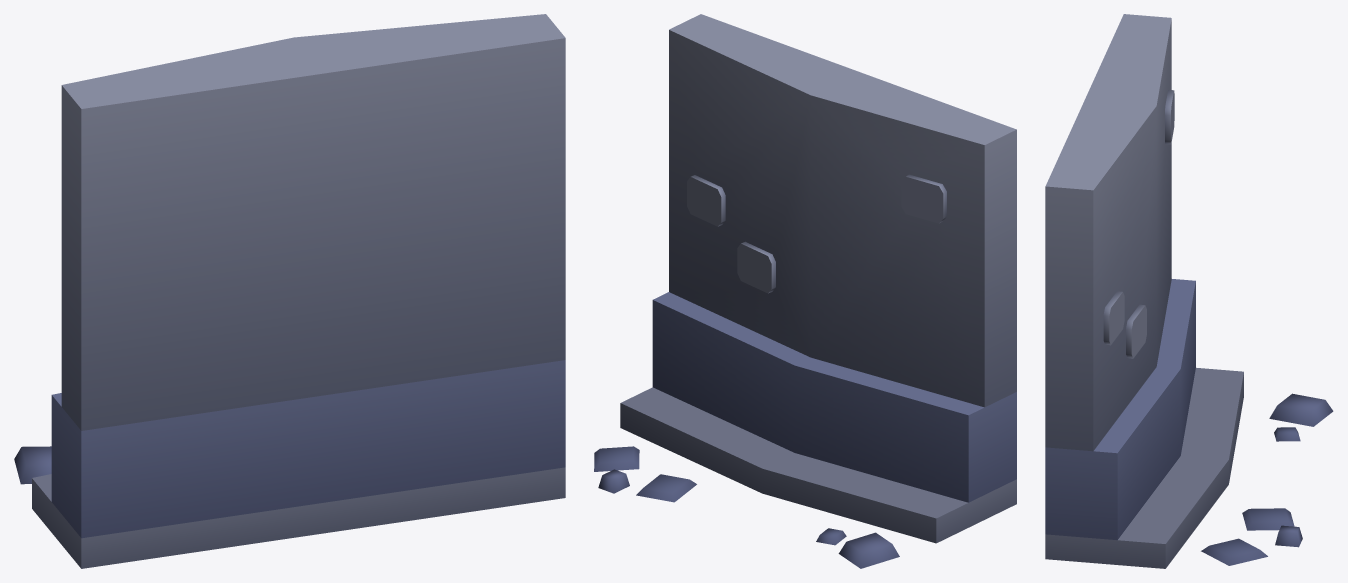
File: template-wall.001.001.001_lev1.glb
The picture shows the model from 3 angles, left to right: view 1: azimuth 30°, elevation 25°; view 2: azimuth 150°, elevation 25°; view 3: azimuth 270°, elevation 25°; orthographic projection. The views are drawn at different scales.
Parts seen in each view (by area): view 1: template-wall.001.001.001_lev1; view 2: template-wall.001.001.001_lev1; view 3: template-wall.001.001.001_lev1.
Boxes of the visible parts, x1,y1,x2,y2 form: template-wall.001.001.001_lev1: [14, 14, 565, 568]; template-wall.001.001.001_lev1: [594, 14, 1016, 568]; template-wall.001.001.001_lev1: [1045, 14, 1333, 568].
Size of the model in its own units: 5.55 by 5.3 by 3.71.
Materials: 1 (1 with a texture image).
